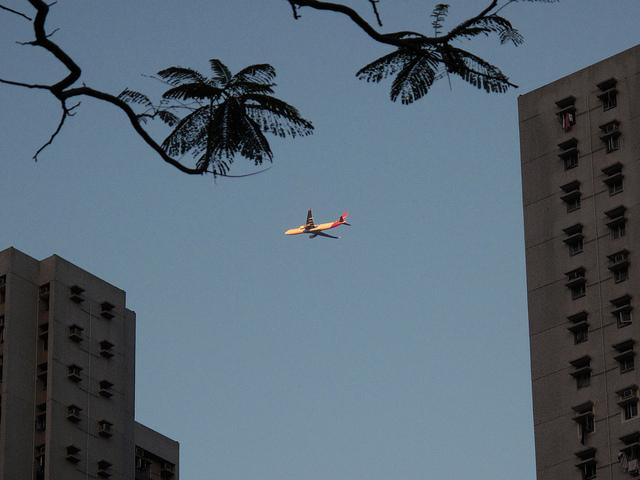airplane: (282, 205, 354, 242)
